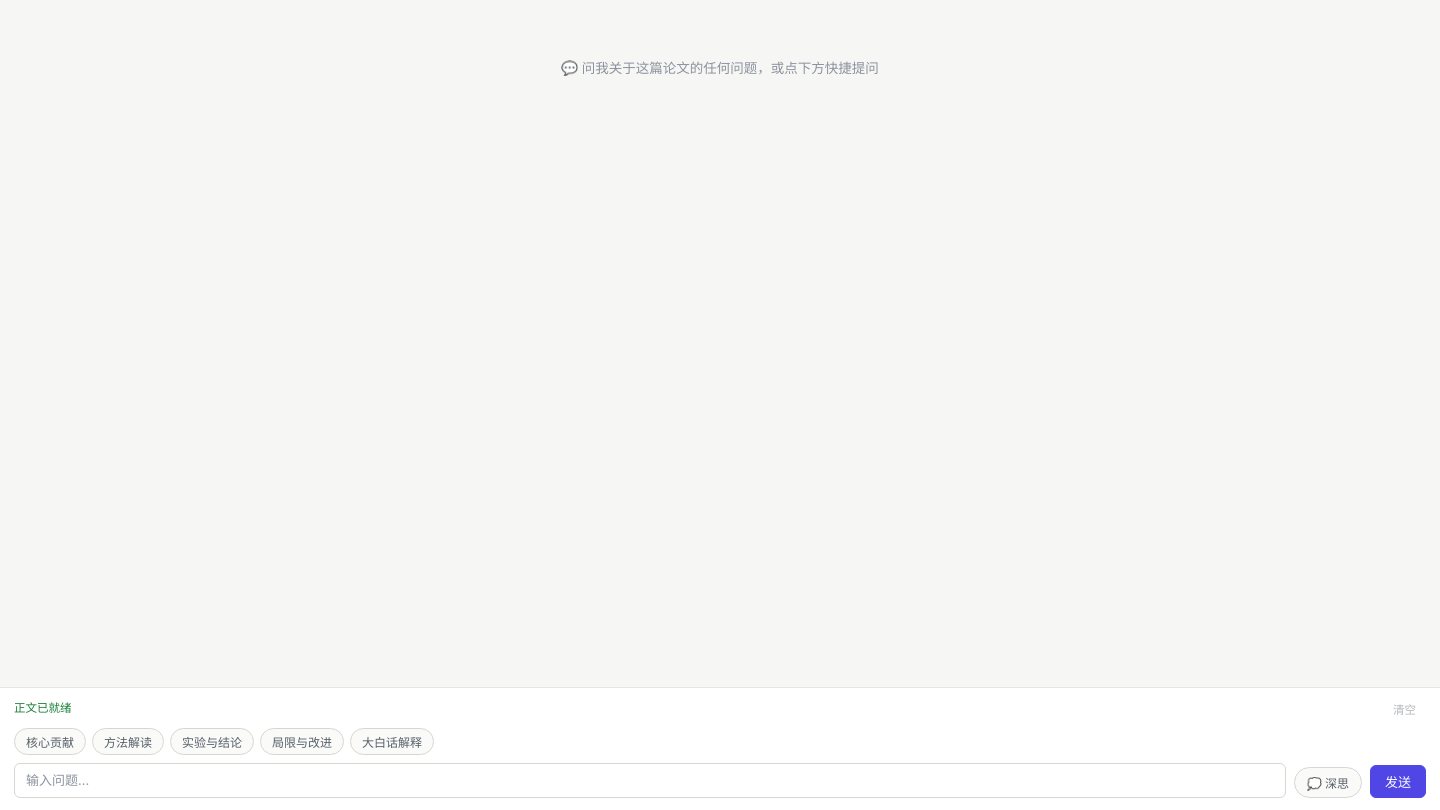
Test case: ChatView › renders assistant markdown (headings/bold), not raw marker text
The width and height of the screenshot is (1440, 810).
Expected: the button "发送" is enabled, [1370, 765, 1426, 798]
In the text box with placeholder "输入问题…": (650, 780) [14, 762, 1286, 798], type "q"
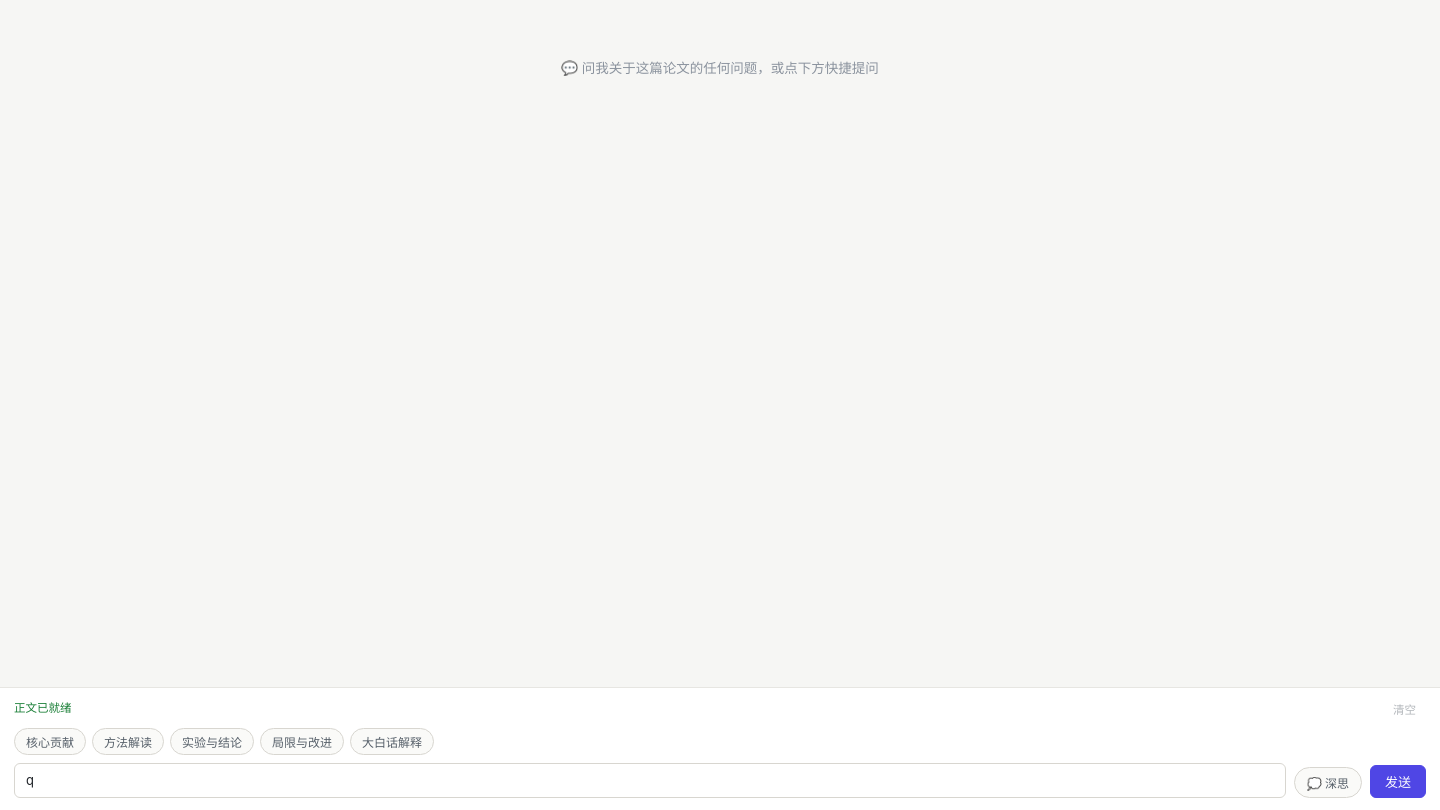
Click the button "发送": (1398, 782) [1370, 765, 1426, 798]
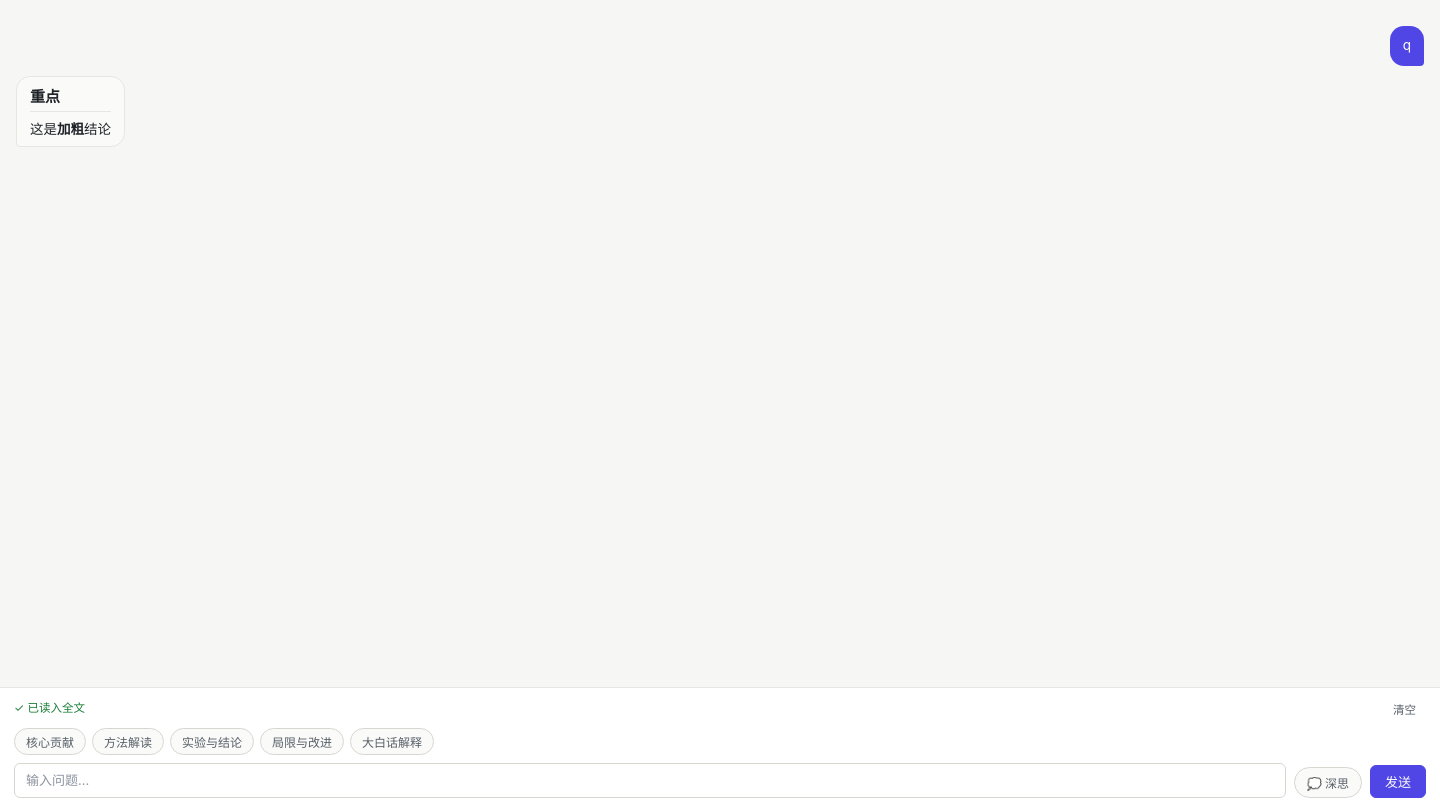
Expected: the heading "重点" is shown, [30, 86, 111, 112]
Expected: the text "加粗" is shown, [57, 121, 84, 137]
